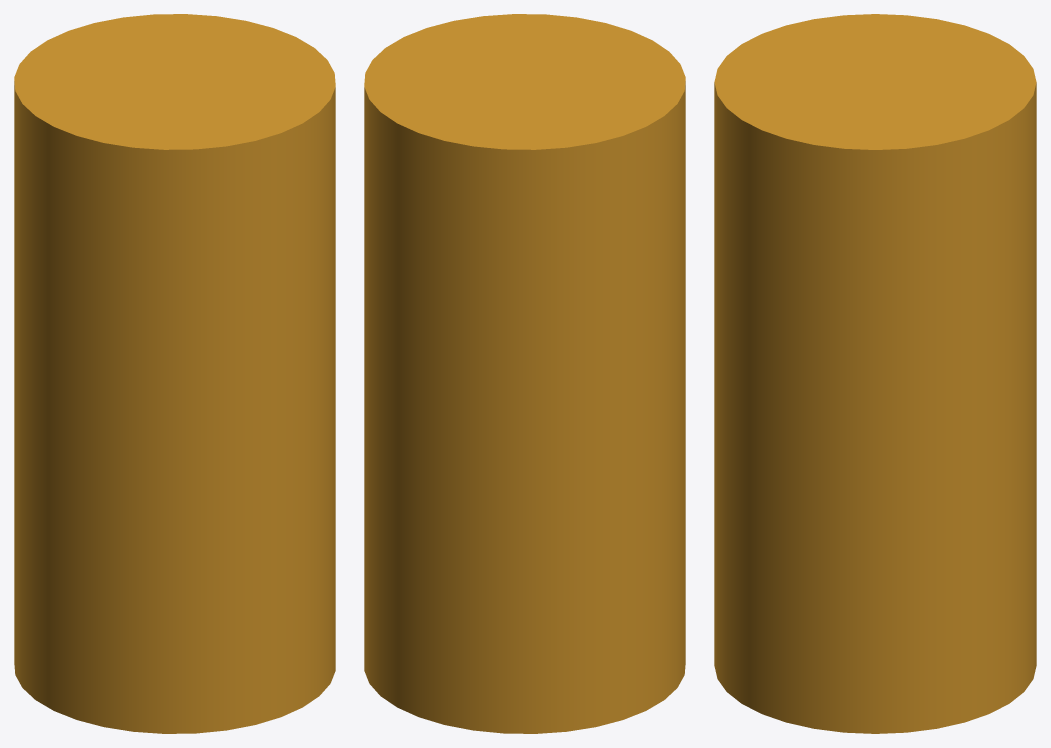
The model's file is body-cutout-qa-stale.glb.
3 renders of one model, left to right at view 1: azimuth 30°, elevation 25°; view 2: azimuth 150°, elevation 25°; view 3: azimuth 270°, elevation 25°, orthographic.
Parts seen in each view (by area): view 1: body_mesh; view 2: body_mesh; view 3: body_mesh.
Part boxes in pixels (left/top/right/bottom): body_mesh: left=14, top=14, right=335, bottom=733; body_mesh: left=364, top=14, right=685, bottom=733; body_mesh: left=714, top=14, right=1036, bottom=733.
Bounding box in the file's own units: 90 × 180 × 90.
